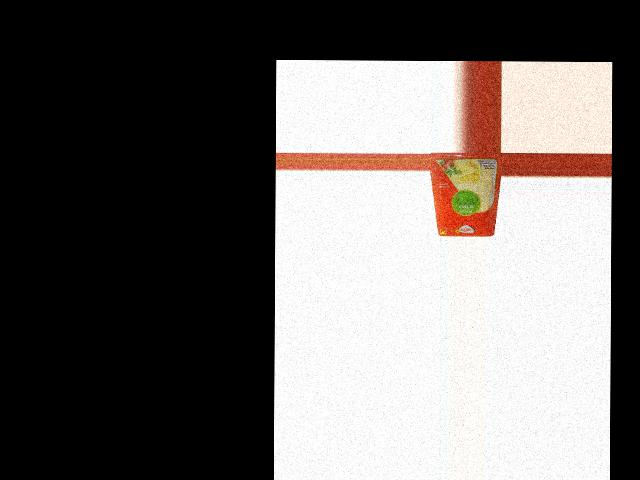cheese: (429, 152, 499, 236)
